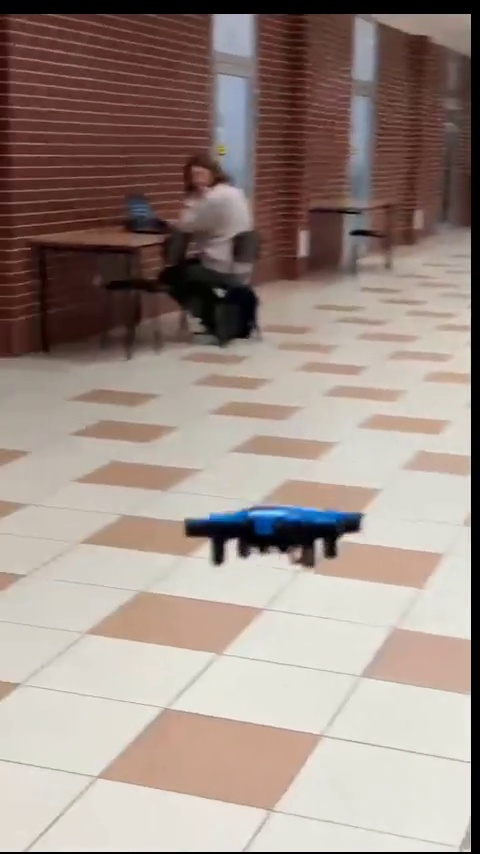drone: (181, 507, 365, 559)
no vest: (160, 147, 251, 331)
